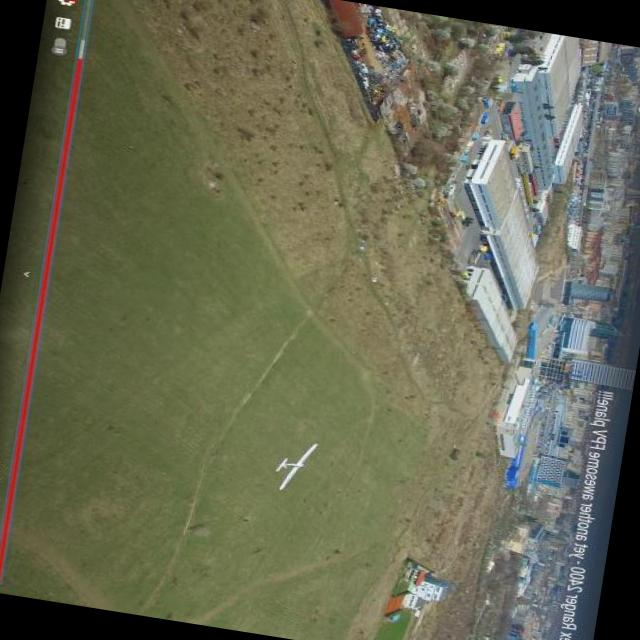UAV: (263, 410, 331, 499)
